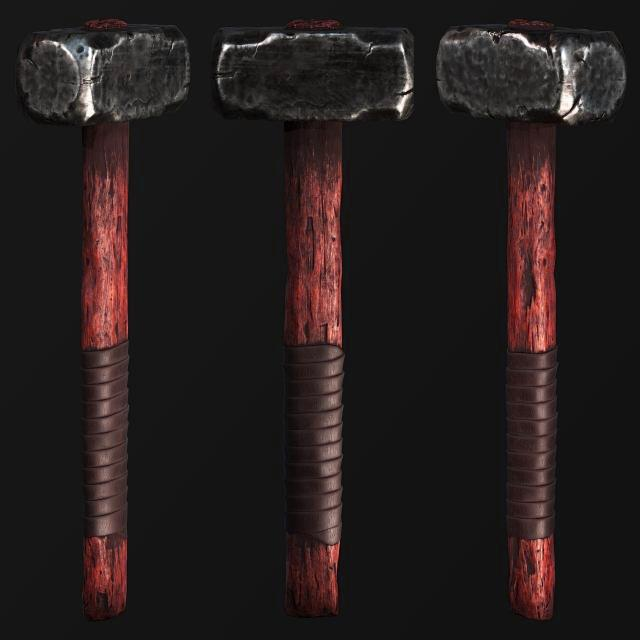hammer: (212, 9, 422, 640), (432, 10, 632, 640), (12, 15, 196, 630)
